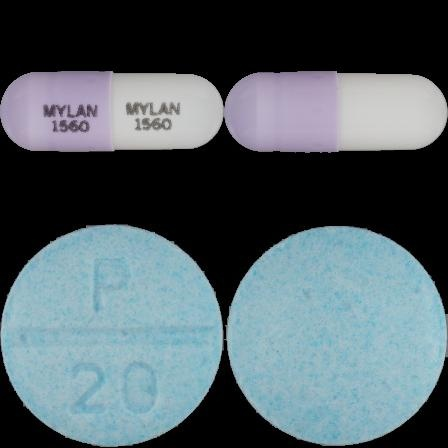63629-2552: (0, 0, 224, 224)
